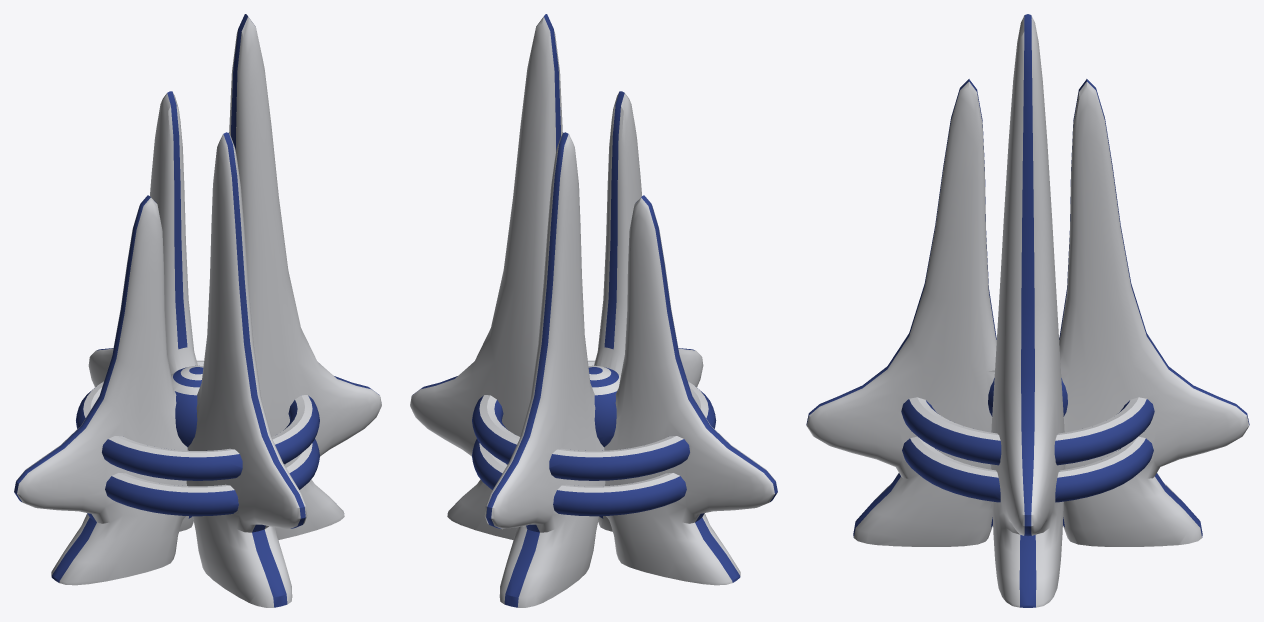
The model's file is sky_s3-4.glb.
3 views of the same model, side by side, from view 1: azimuth 30°, elevation 25°; view 2: azimuth 150°, elevation 25°; view 3: azimuth 270°, elevation 25° (orthographic). The views are drawn at different scales.
Visible parts, largest first — view 1: Skyscraper 5; view 2: Skyscraper 5; view 3: Skyscraper 5.
Part boxes in pixels (x1=…): Skyscraper 5: x1=14, y1=14, x2=381, y2=607; Skyscraper 5: x1=410, y1=14, x2=777, y2=607; Skyscraper 5: x1=806, y1=14, x2=1249, y2=607.
Bounding box in the file's own units: 3.94 × 5.35 × 3.94.
